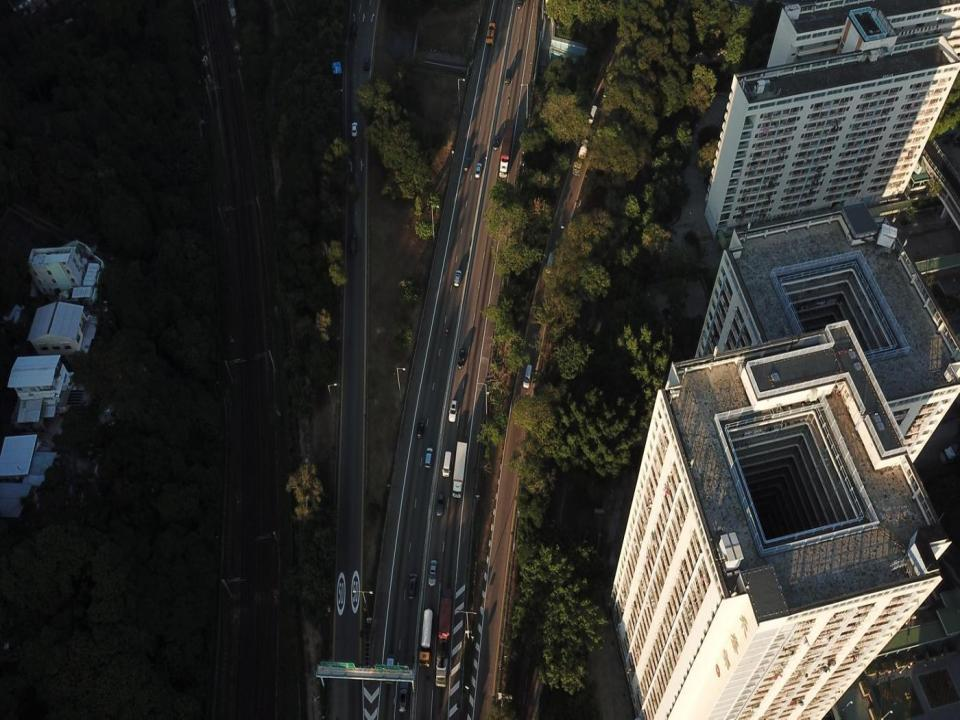car: (429, 561, 436, 587), (448, 401, 457, 420), (437, 494, 444, 517), (350, 235, 358, 255), (453, 270, 461, 288), (416, 420, 424, 438), (458, 348, 465, 368), (463, 156, 470, 171), (352, 122, 358, 137), (351, 25, 357, 39), (476, 162, 482, 176), (493, 137, 499, 151), (364, 56, 369, 69)
truck: (436, 589, 454, 687), (499, 118, 515, 177), (452, 442, 468, 498), (418, 609, 433, 667), (486, 23, 494, 45)
van: (398, 677, 408, 715), (442, 451, 451, 478), (387, 655, 395, 685), (524, 364, 533, 388), (409, 572, 415, 598), (424, 448, 432, 467), (506, 70, 510, 83)
